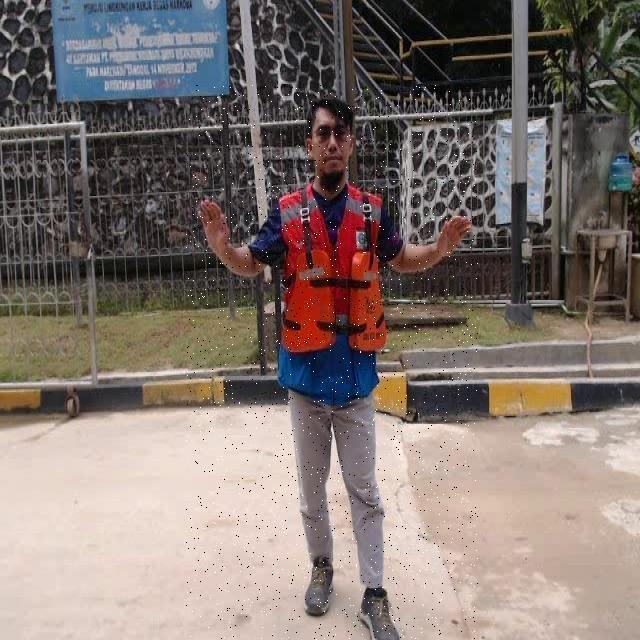boots: (354, 572, 405, 640), (299, 550, 338, 622)
person: (186, 85, 478, 640)
vest: (279, 184, 388, 400)
